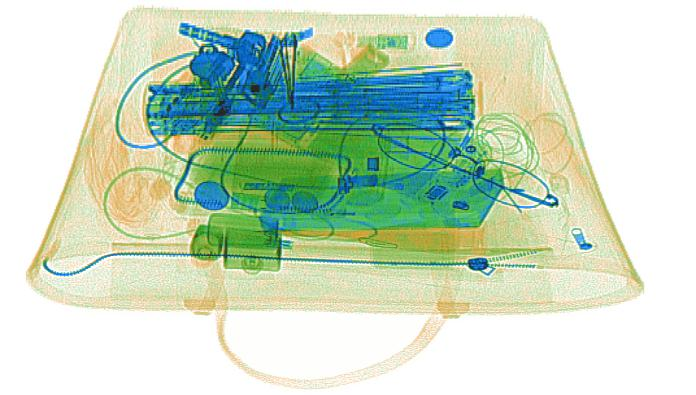USBFlashDisk: (352, 30, 412, 51)
